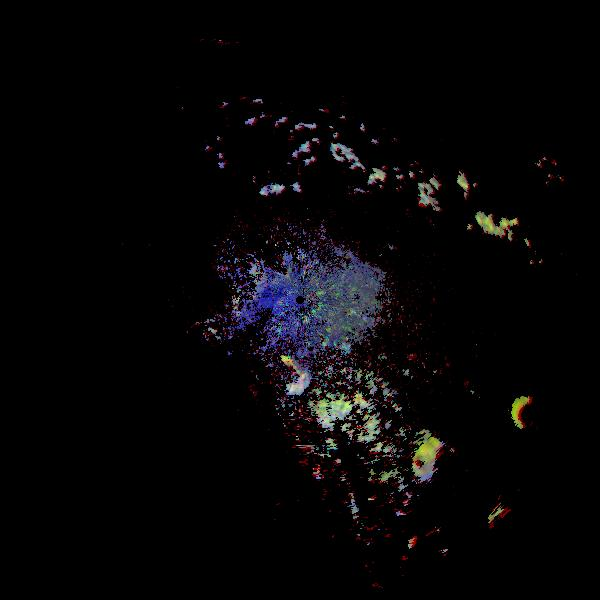roost: (505, 372, 589, 456), (481, 492, 550, 561), (407, 430, 473, 496), (270, 348, 327, 405)
